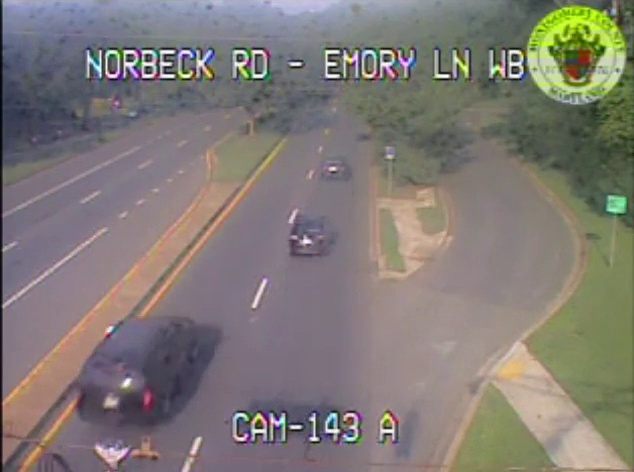car: (79, 316, 198, 419), (288, 217, 327, 255), (322, 160, 344, 178)
